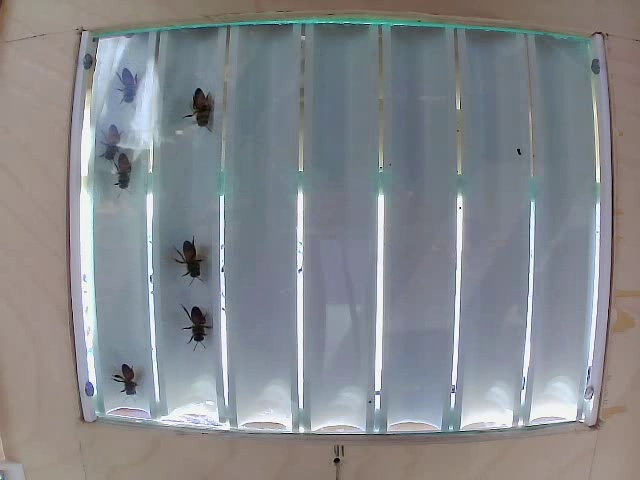bee: (177, 296, 219, 357), (109, 355, 147, 402), (186, 85, 218, 137), (180, 233, 210, 282), (102, 153, 139, 188), (113, 71, 143, 107)
